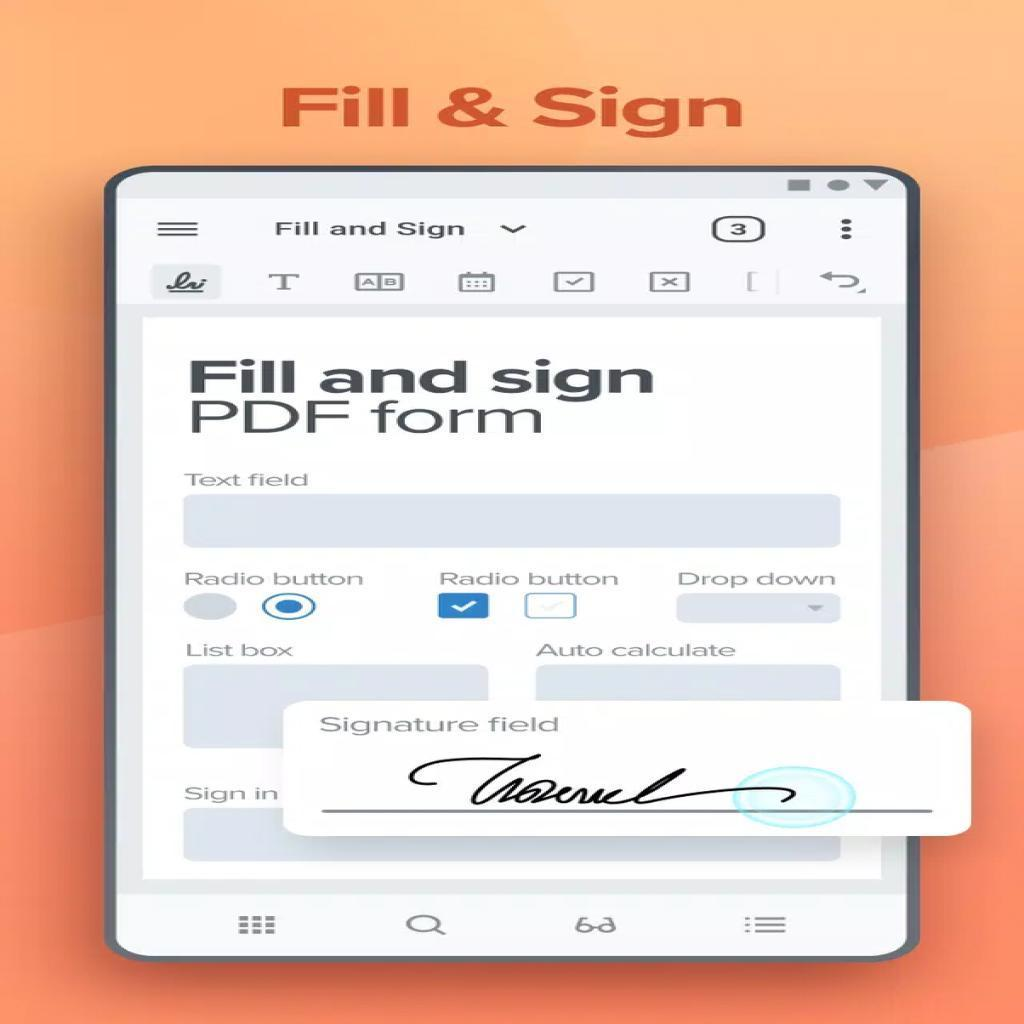checkbox: (442, 591, 489, 620), (527, 596, 580, 619), (648, 270, 693, 297), (553, 272, 599, 295)
dropdown: (678, 591, 841, 626)
icon: (155, 264, 222, 301), (354, 268, 409, 298), (740, 910, 792, 941), (402, 911, 452, 942), (572, 910, 622, 941), (815, 267, 866, 297), (455, 267, 499, 301), (154, 217, 204, 244), (234, 911, 280, 939), (265, 268, 306, 298), (837, 214, 865, 247)
input: (187, 496, 842, 553)
radio: (186, 591, 240, 627), (262, 591, 318, 625)
